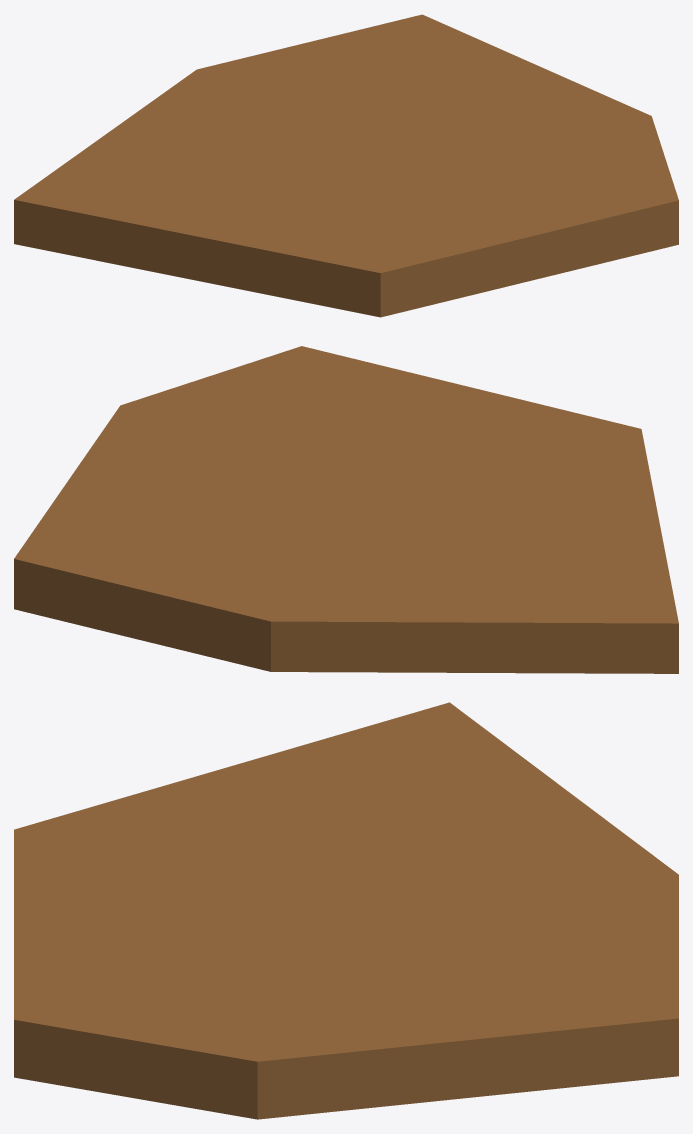
The model's file is x_proval_00_245_1_rmstrd.fbx.
3 renders of one model, top to bottom at view 1: azimuth 30°, elevation 25°; view 2: azimuth 150°, elevation 25°; view 3: azimuth 270°, elevation 25°, orthographic. The views are drawn at different scales.
Visible parts, largest first — view 1: x_proval_00_245_1_rmstrd1; view 2: x_proval_00_245_1_rmstrd1; view 3: x_proval_00_245_1_rmstrd1.
Boxes of the visible parts, box(x1,y1,x2,y2) form: x_proval_00_245_1_rmstrd1: box(14, 14, 678, 317); x_proval_00_245_1_rmstrd1: box(14, 346, 678, 673); x_proval_00_245_1_rmstrd1: box(14, 702, 678, 1119).
Bounding box in the file's own units: 2.67 × 0.2 × 2.09.
